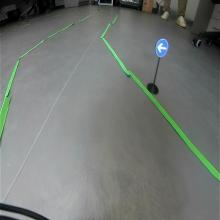left: (155, 38, 169, 57)
